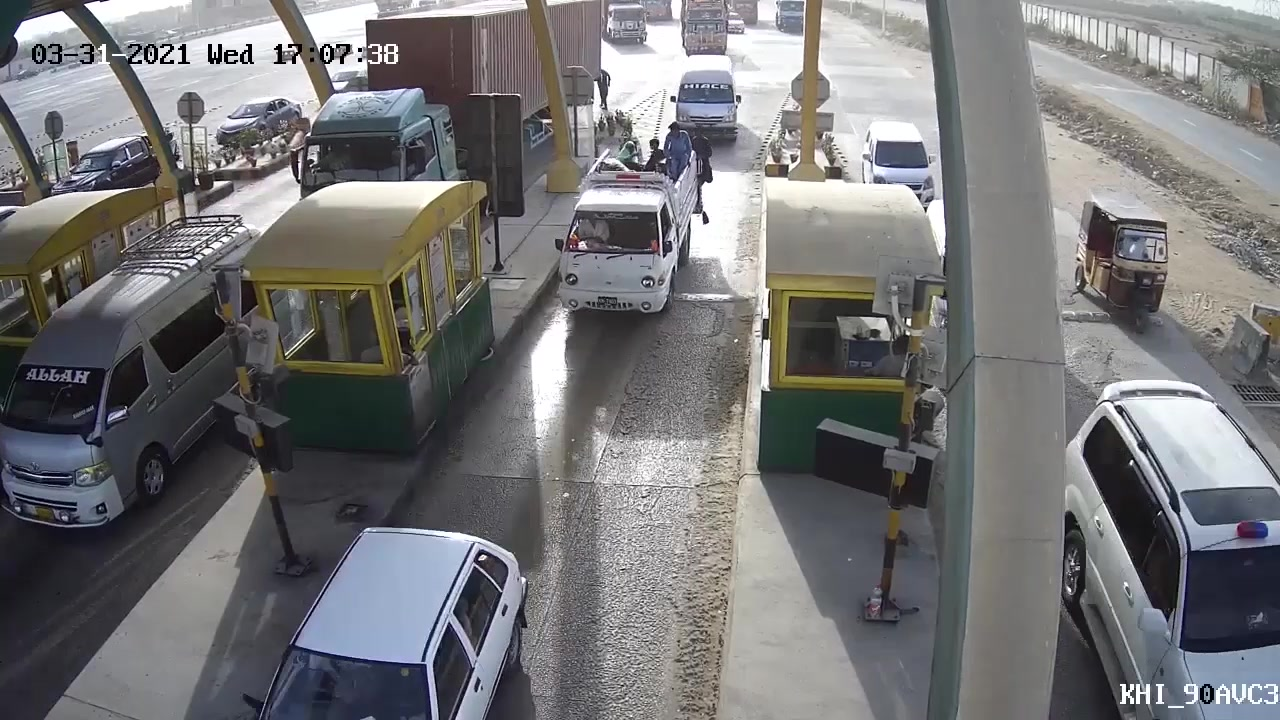F2: (547, 125, 701, 333)
